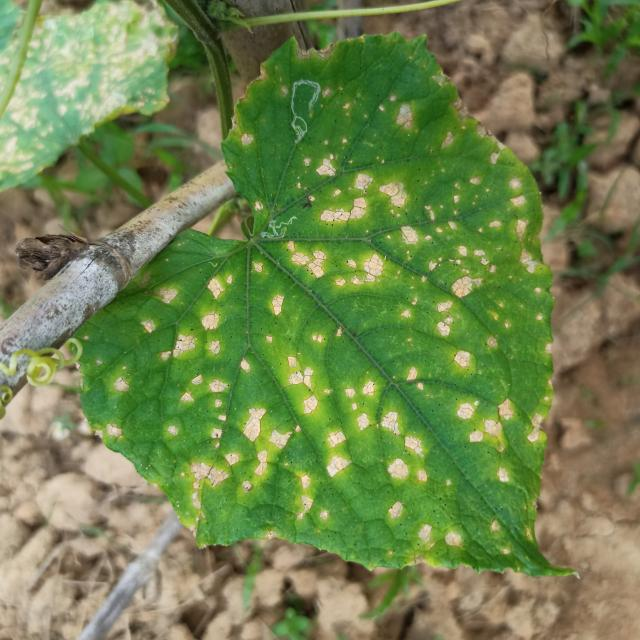disease_cucumber: (123, 72, 549, 550)
